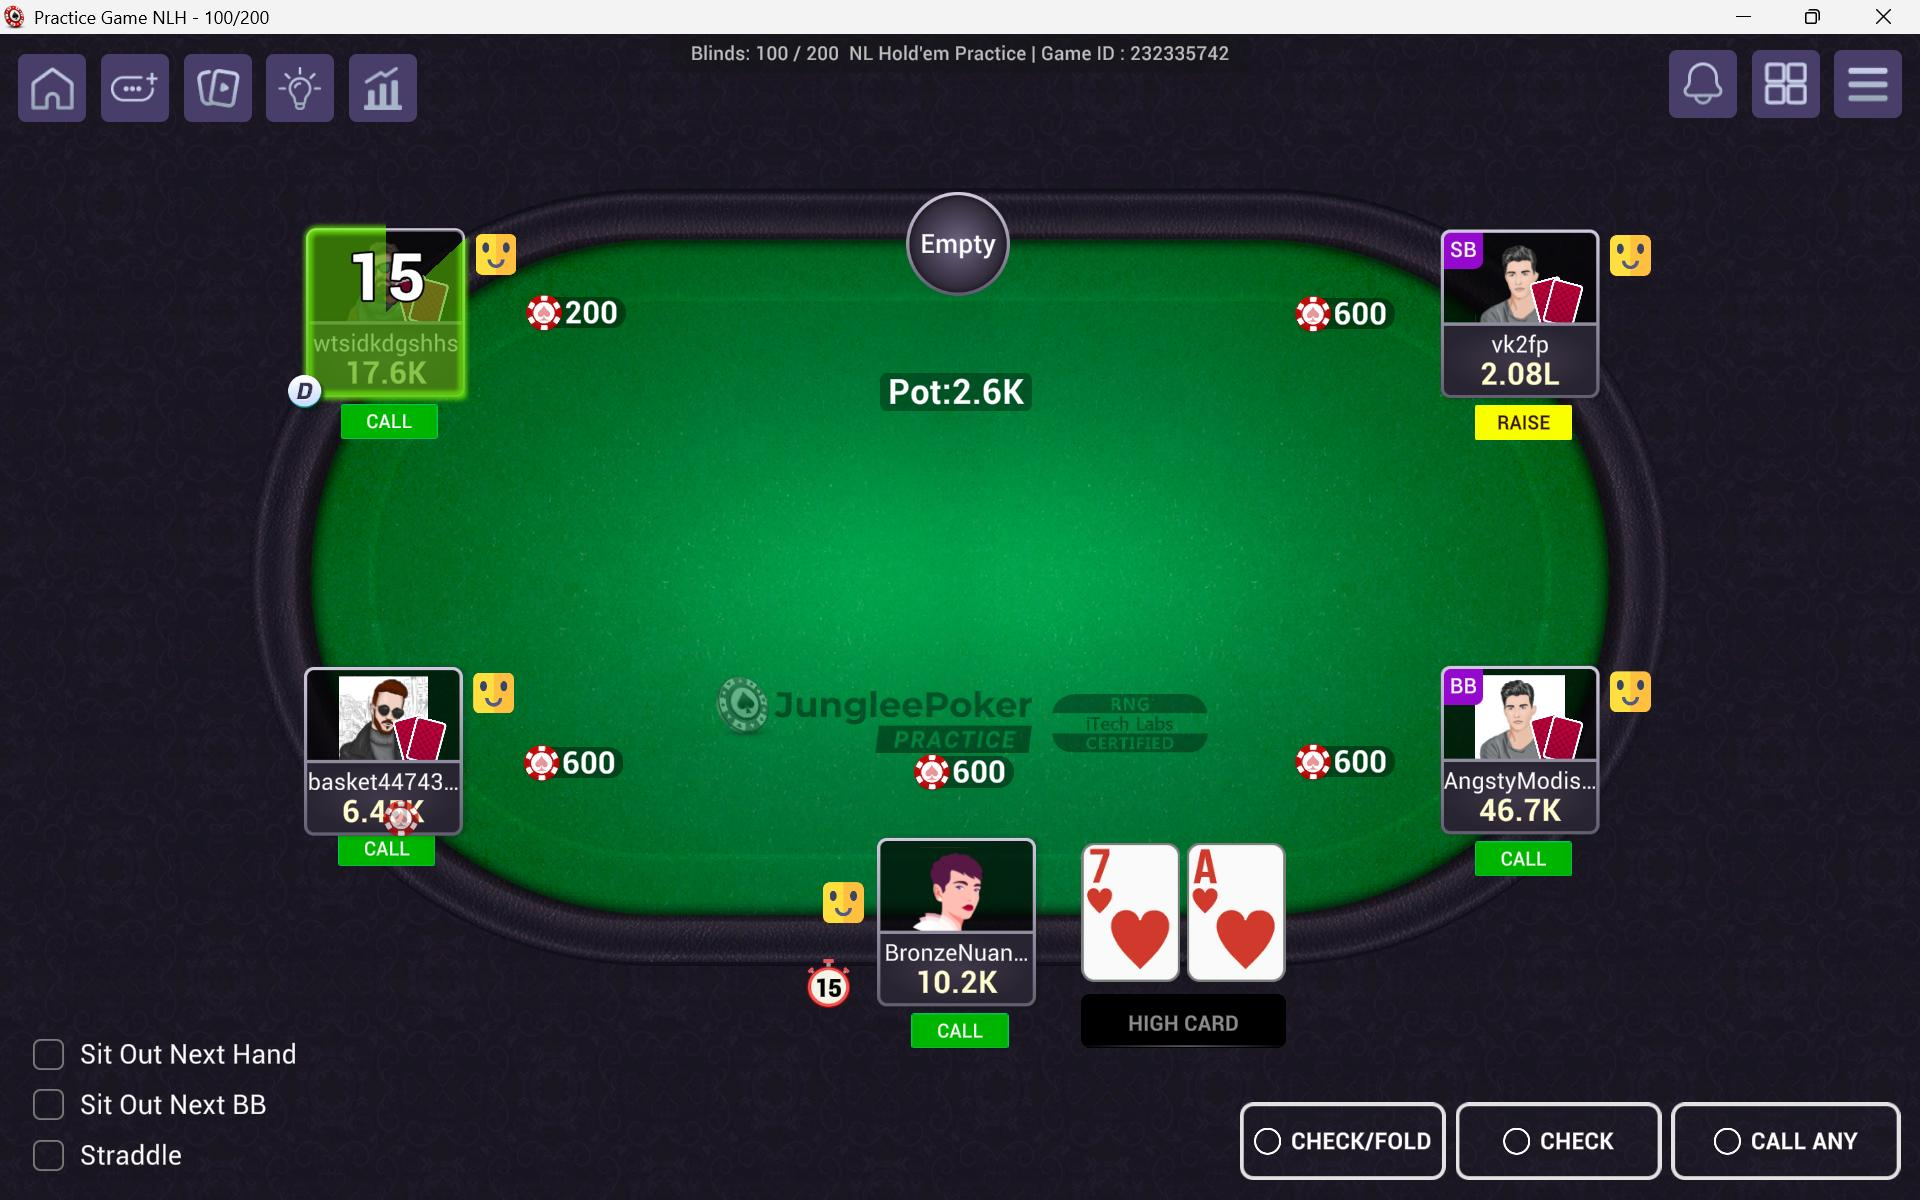card1_rank: (1085, 838, 1169, 892)
card1_suite_heart: (1104, 893, 1182, 984)
card2_rank: (1190, 841, 1280, 894)
card2_suite_heart: (1208, 889, 1283, 976)
game_id: (1030, 36, 1239, 66)
my_bet: (905, 748, 1019, 802)
my_stack: (878, 959, 1035, 1004)
position_BB: (1443, 666, 1489, 706)
position_SB: (1444, 228, 1487, 274)
total_pot: (882, 368, 1039, 415)
villian1_bet: (516, 738, 622, 792)
villian1_name: (297, 756, 459, 806)
villian1_stack: (305, 794, 463, 839)
villian2_bet: (525, 286, 626, 340)
villian2_name: (305, 314, 460, 362)
villian2_stack: (310, 343, 459, 393)
villian4_bet: (1290, 289, 1392, 333)
villian4_stack: (1443, 346, 1595, 388), (1444, 324, 1603, 358)
villian5_bet: (1292, 738, 1400, 784)
villian5_name: (1443, 759, 1602, 799)
villian5_stack: (1444, 784, 1602, 829)
